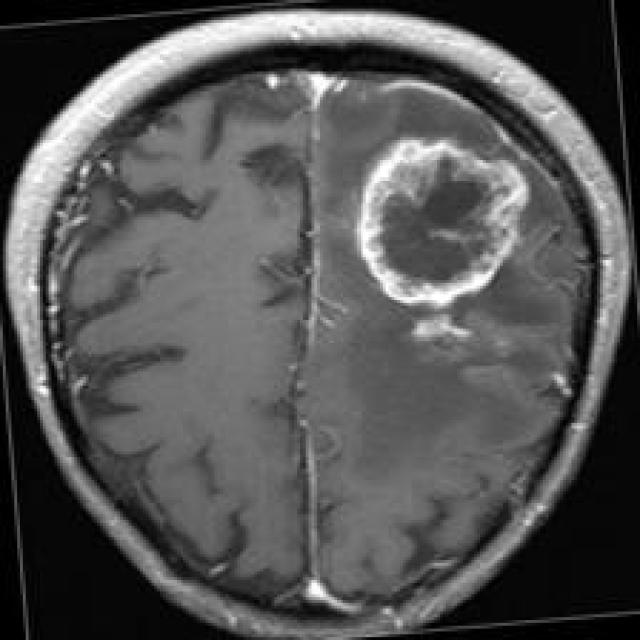Tumor: (360, 140, 531, 310)
